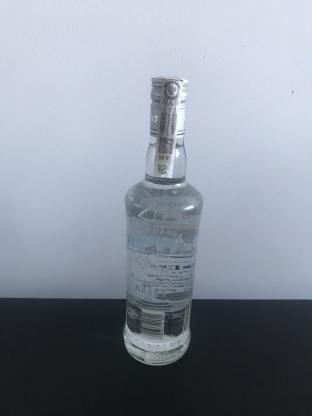nakretka: (146, 69, 190, 139)
